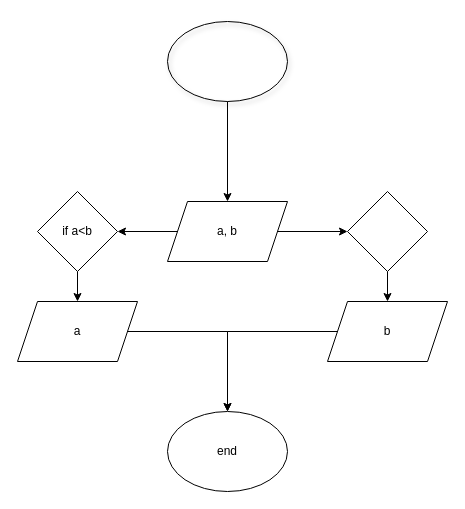
Image size: 465x509. Some labels were removed from this diagram. Here are the shapes that lost their labels. From the top down, the centre of each, then its label:
the point at 228,62: start
the point at 387,231: if a>b
